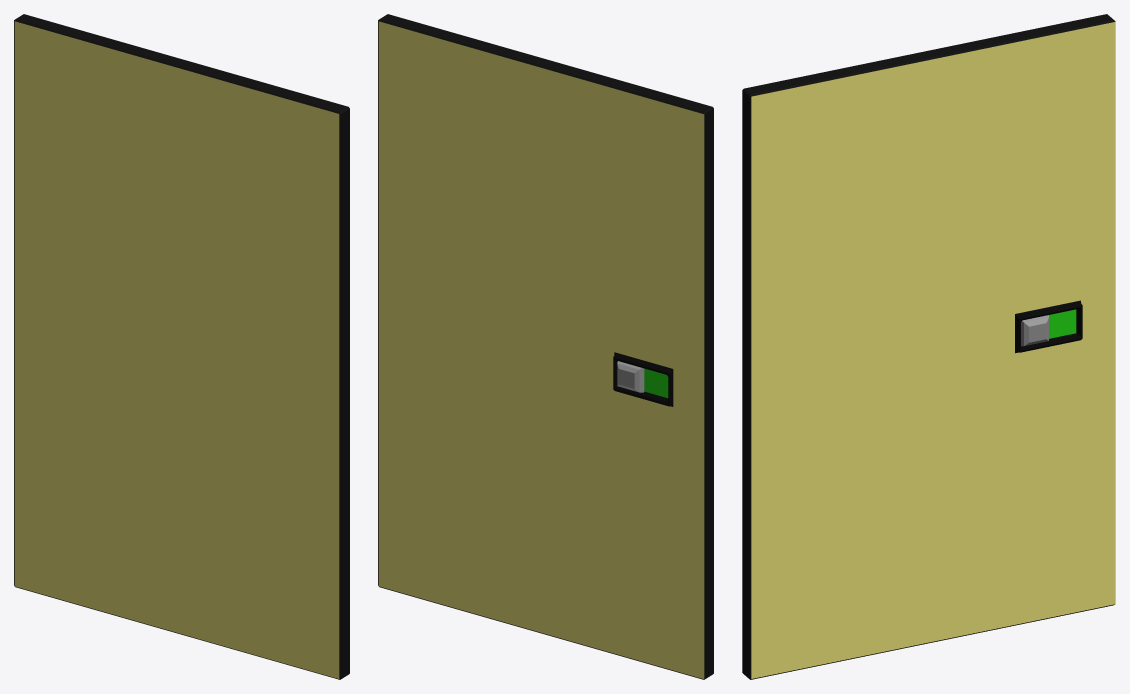
The model's file is bathroom-stall-door.glb.
The picture shows the model from 3 angles, left to right: view 1: azimuth 30°, elevation 25°; view 2: azimuth 210°, elevation 25°; view 3: azimuth 270°, elevation 25°; orthographic projection. The views are drawn at different scales.
Visible parts, largest first — view 1: Object_75; view 2: Object_75, Object_77; view 3: Object_75, Object_77.
Part boxes in pixels (x1,y1,x2,y2): Object_75: [14, 14, 349, 679]; Object_75: [378, 14, 713, 679]; Object_77: [617, 361, 644, 392]; Object_75: [742, 14, 1115, 679]; Object_77: [1021, 315, 1048, 346].
Size of the model in its own units: 0.7931 by 2.65 by 1.53.
Materials: 2 (2 with a texture image).
